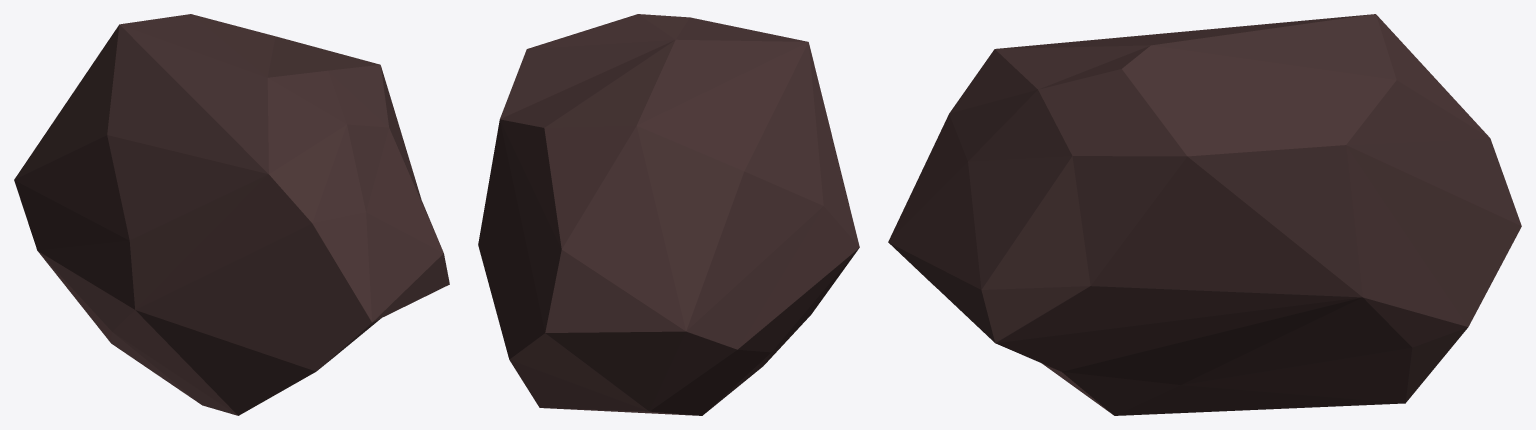
The model's file is Recolor_Rock_2.fbx.
3 views of the same model, side by side, from view 1: azimuth 30°, elevation 25°; view 2: azimuth 150°, elevation 25°; view 3: azimuth 270°, elevation 25° (orthographic). The views are drawn at different scales.
Visible parts, largest first — view 1: Rock_Div_1; view 2: Rock_Div_1; view 3: Rock_Div_1.
Part boxes in pixels (<box>): Rock_Div_1: <box>14,14,449,415</box>; Rock_Div_1: <box>478,14,859,415</box>; Rock_Div_1: <box>888,14,1521,415</box>.
Bounding box in the file's own units: 7.29 × 7.52 × 11.63.
